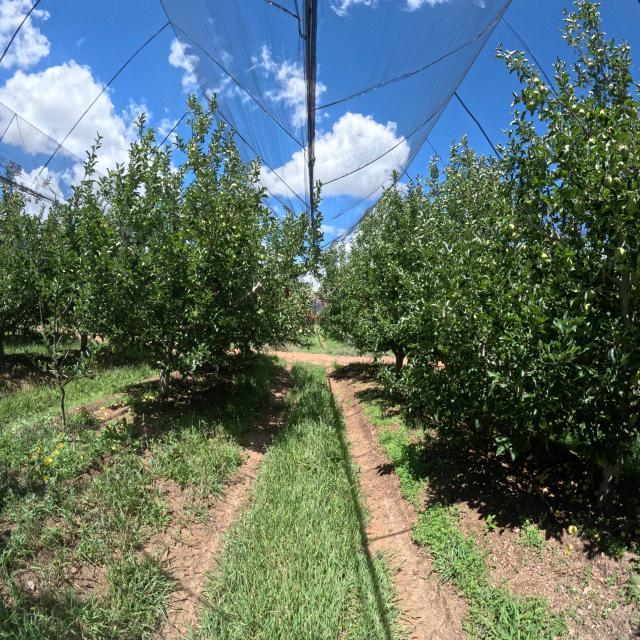-FireBlight-: (305, 308, 324, 323), (311, 295, 330, 308), (284, 285, 289, 299)
